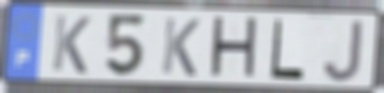5: (105, 12, 150, 80)
H: (207, 14, 260, 83)
J: (321, 18, 366, 84)
K: (50, 13, 94, 77), (159, 15, 203, 79)
L: (268, 17, 307, 83)
